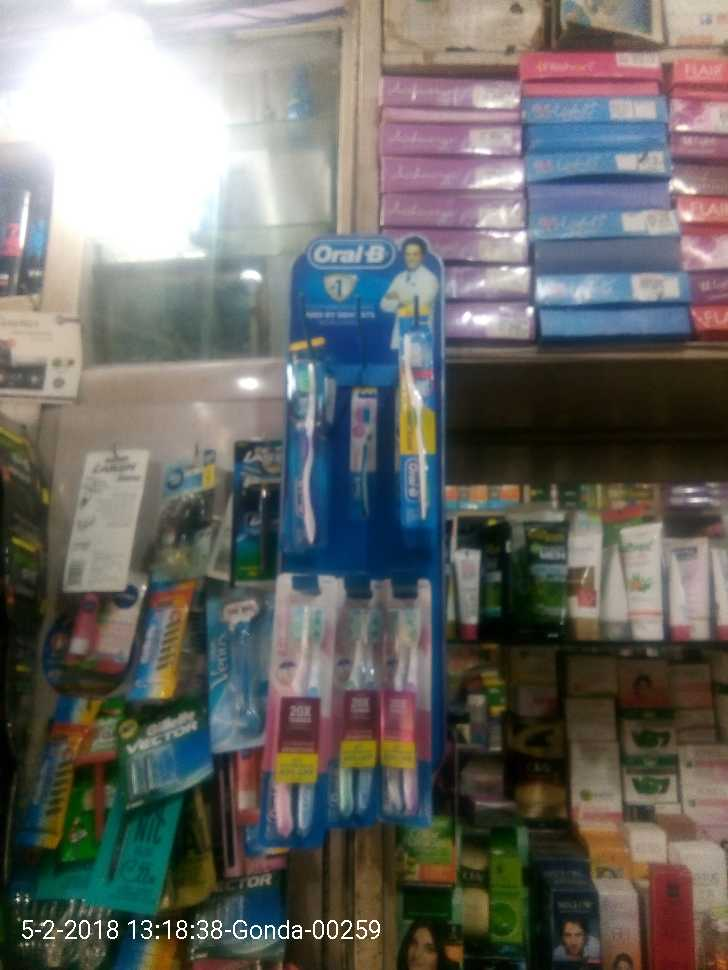oralb: (265, 572, 328, 838), (380, 571, 434, 827), (333, 577, 384, 827), (395, 301, 440, 537), (288, 359, 326, 561)
